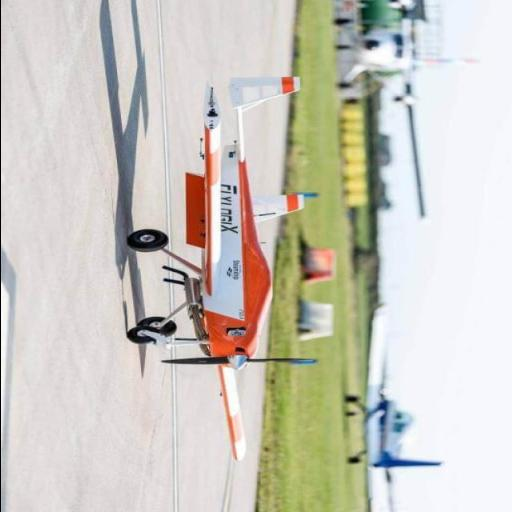uav: (124, 72, 306, 462)
